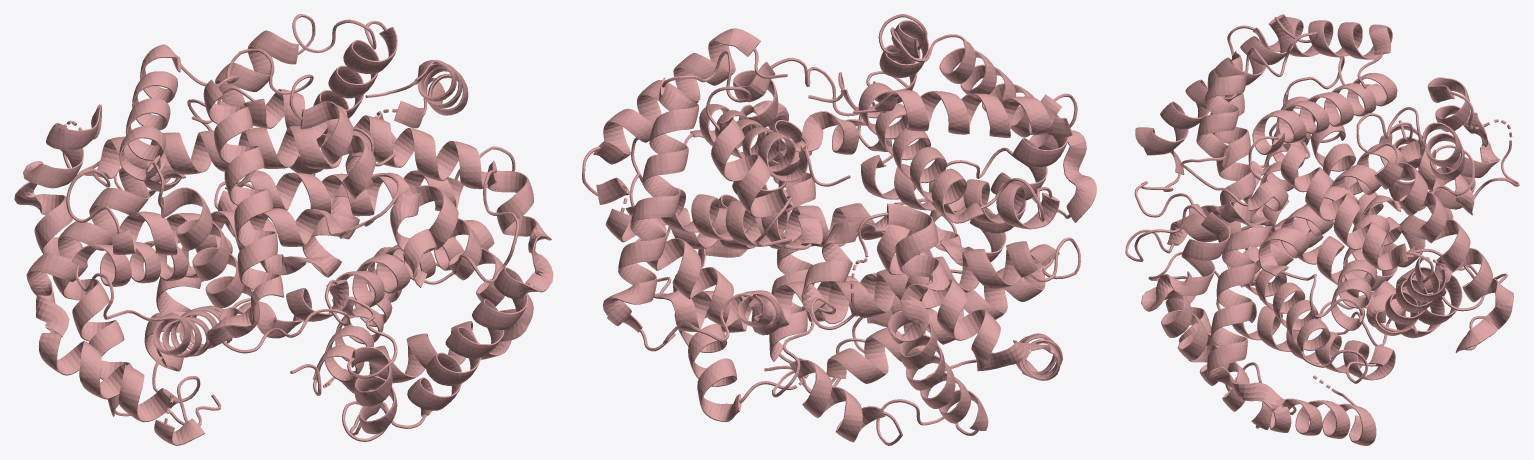
File: 4hhb__cartoon__default.glb
3 renders of one model, left to right at view 1: azimuth 30°, elevation 25°; view 2: azimuth 150°, elevation 25°; view 3: azimuth 270°, elevation 25°, orthographic. The views are drawn at different scales.
Visible parts, largest first — view 1: Renderer Node; view 2: Renderer Node; view 3: Renderer Node.
Boxes of the visible parts, box(x1,y1,x2,y2) form: Renderer Node: box(14, 14, 553, 445); Renderer Node: box(582, 14, 1096, 445); Renderer Node: box(1125, 14, 1519, 445).
Size of the model in its own units: 63.54 by 54.13 by 54.86.
